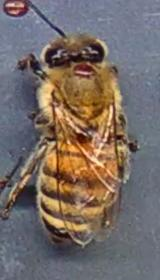varroa_mite: (68, 58, 100, 78)
